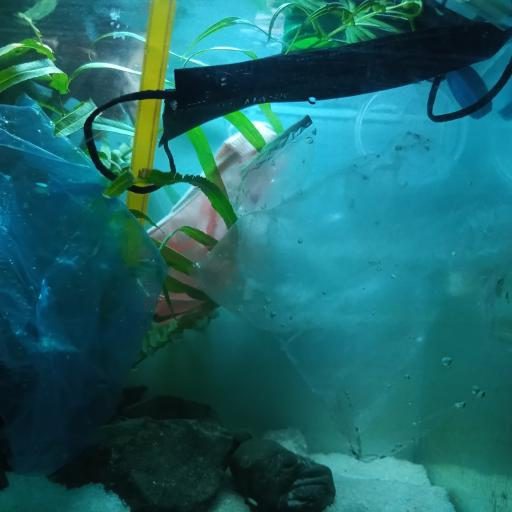bottle_cap: (449, 66, 493, 120)
mask: (80, 14, 512, 196), (143, 119, 283, 325)
plastic_bag: (189, 114, 512, 450), (0, 93, 175, 478)
plastic_cup: (354, 82, 466, 181)
plastic_straw: (123, 0, 176, 271)
